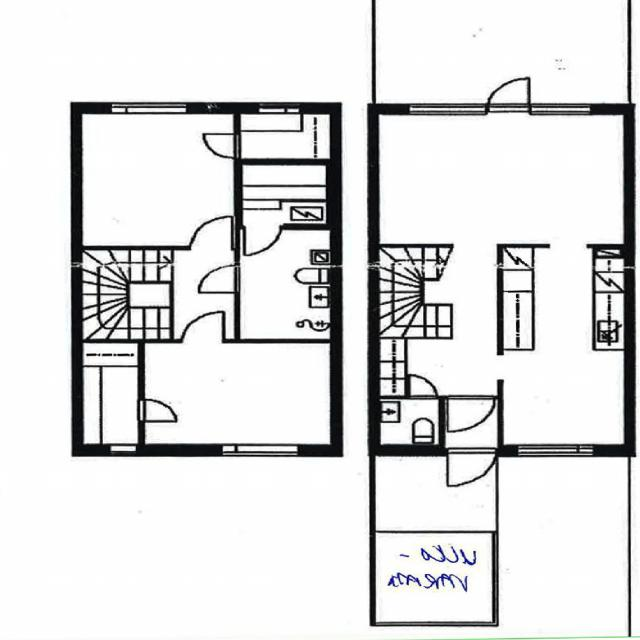door: (448, 446, 496, 492), (448, 396, 494, 433), (487, 74, 529, 114), (191, 216, 232, 251), (183, 310, 224, 343), (441, 504, 478, 534), (245, 224, 280, 255), (199, 266, 240, 292), (202, 134, 240, 158), (138, 400, 174, 422), (408, 375, 437, 400)
